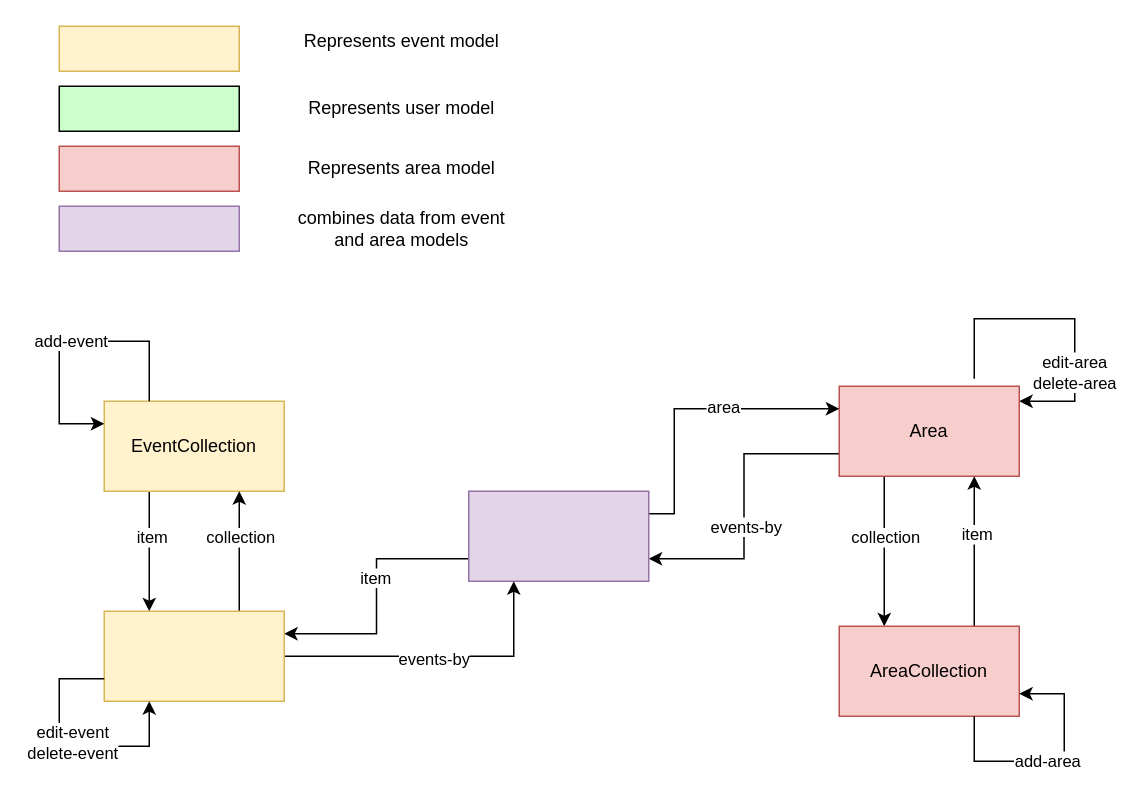
Some shapes in this 1142 by 800 pixel diagram are drawn without their labels. The centre of each missing label's shape, as x and y in pixels:
"Event" goes at [193,655].
"EventsByArea" goes at [558,535].
